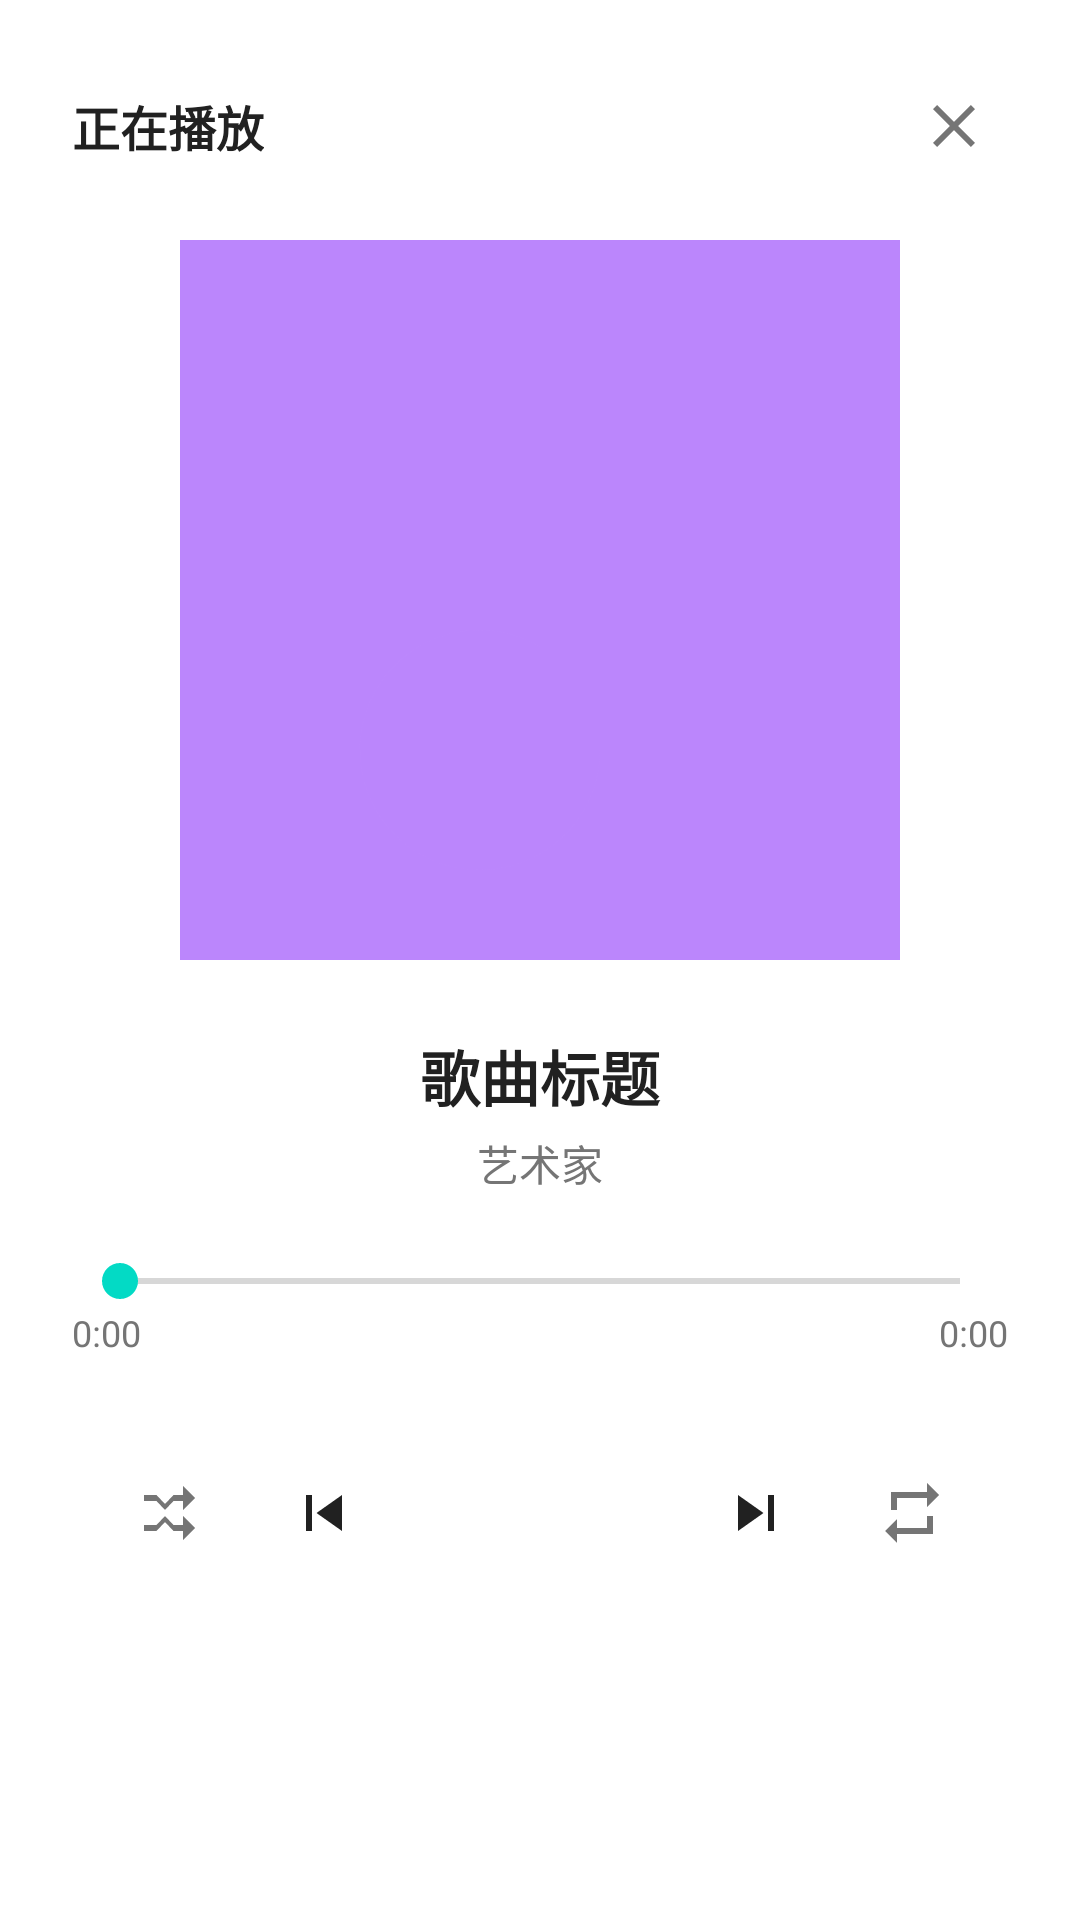

Screen size 1080*1920. Icon name, then its center in pixels as [x,y]:
上一首: [324,1513]
下一首: [756,1513]
关闭: [954,126]
循环播放: [912,1513]
随机播放: [169,1513]
